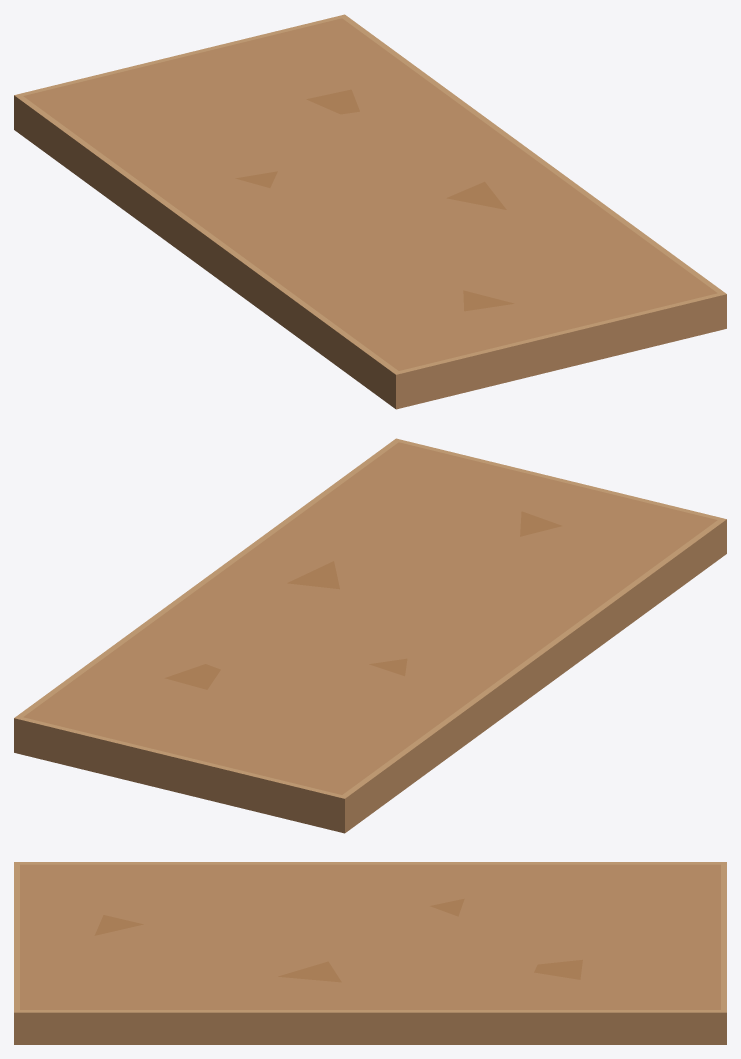
File: ConcrateSlabs_E_3_2.glb
The picture shows the model from 3 angles, top to bottom: view 1: azimuth 30°, elevation 25°; view 2: azimuth 150°, elevation 25°; view 3: azimuth 270°, elevation 25°; orthographic projection. The views are drawn at different scales.
Visible parts, largest first — view 1: ConcrateSlabs_E_3_2; view 2: ConcrateSlabs_E_3_2; view 3: ConcrateSlabs_E_3_2.
Part boxes in pixels (box(x1,y1,x2,y2)): ConcrateSlabs_E_3_2: box(14, 14, 726, 409); ConcrateSlabs_E_3_2: box(14, 438, 726, 833); ConcrateSlabs_E_3_2: box(14, 862, 726, 1044).
Bounding box in the file's own units: 4 × 0.4 × 8.
Materials: 1 (1 with a texture image).
